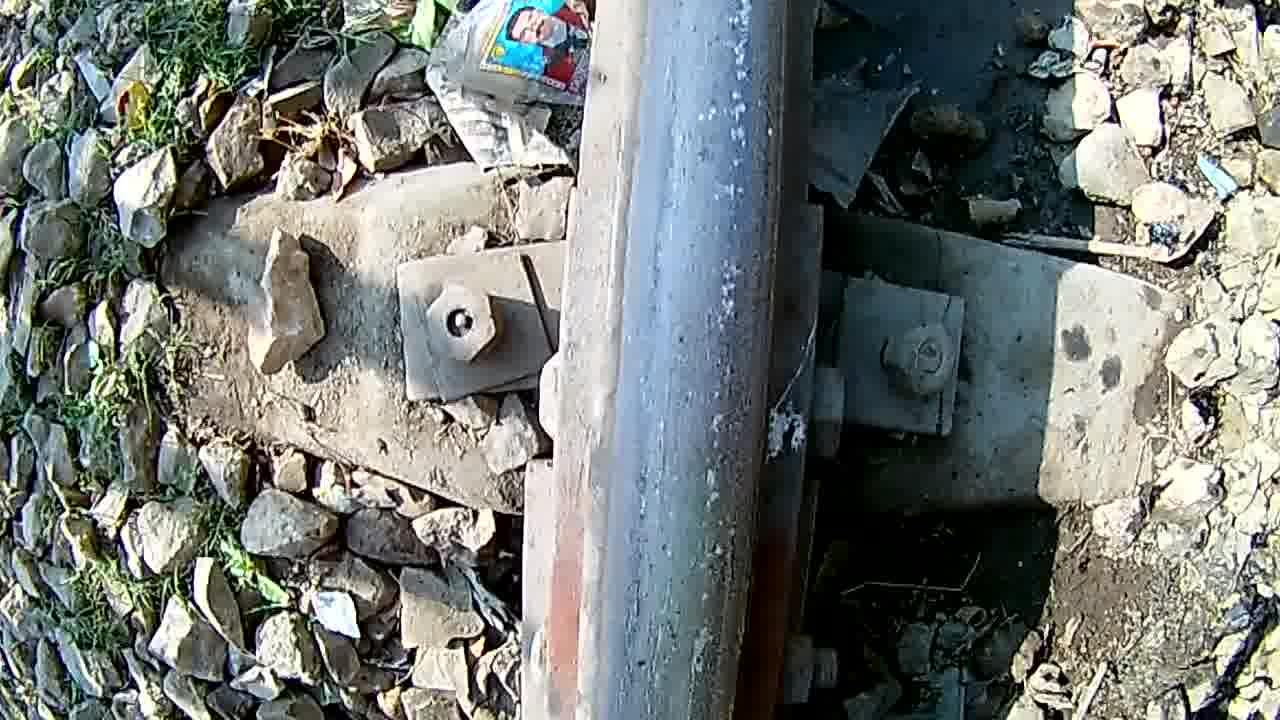clip_missing: (588, 0, 790, 720)
